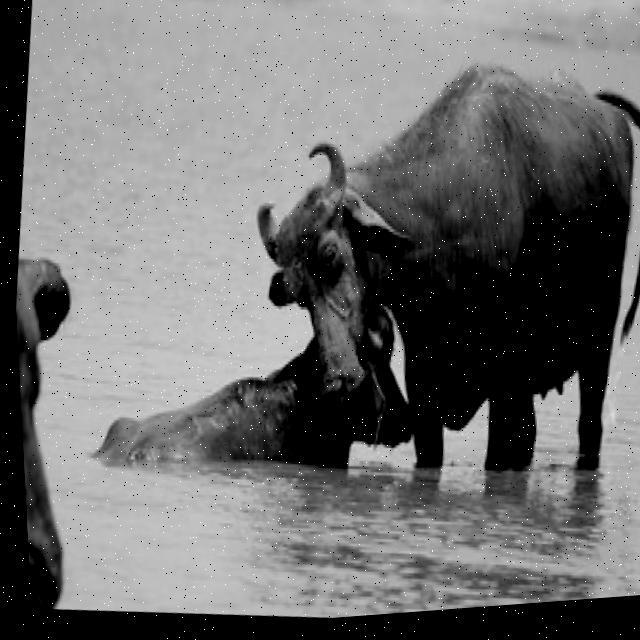Buffalo: (217, 31, 640, 530)
